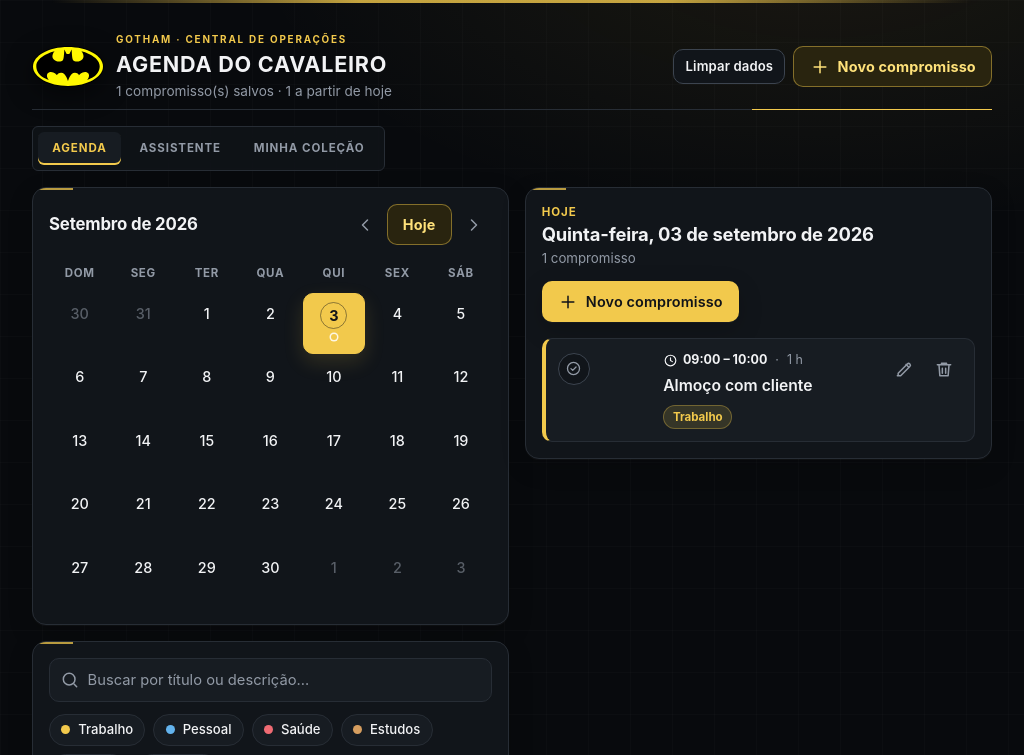
it: exclusão › pede confirmação e mantém o compromisso ao cancelar
Click the button named "Excluir compromisso Almoço com cliente".
click(944, 369)  # box [926,351,962,387]
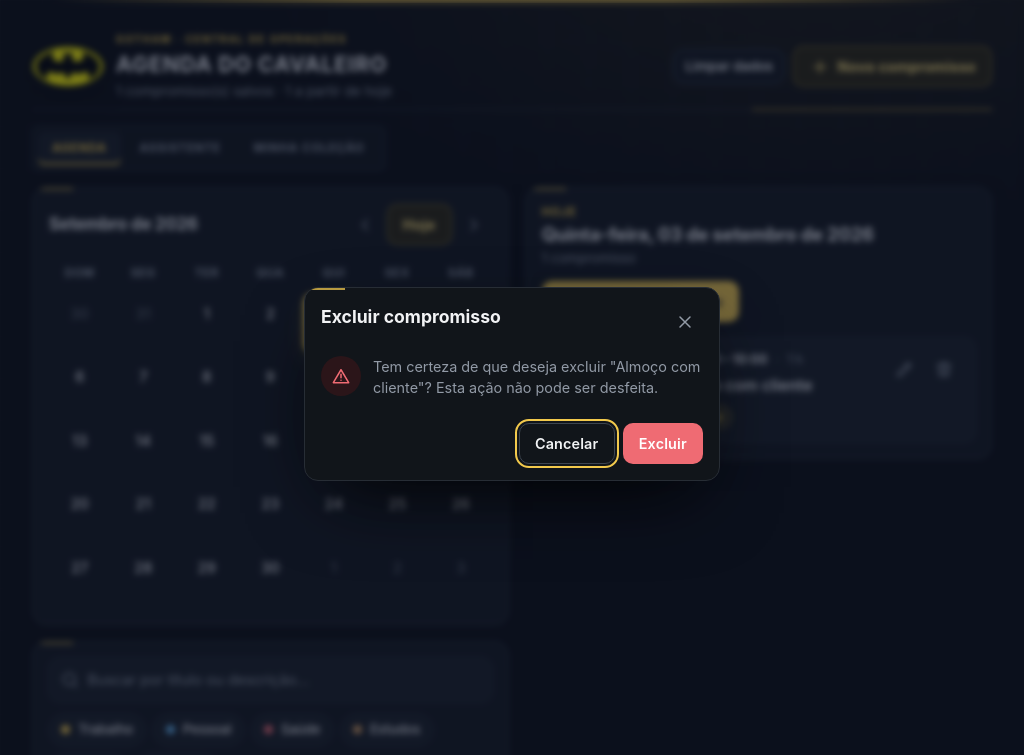
Check: the text "não pode ser desfeita" is shown, box [373,358,700,396]
Click the button "Cancelar".
click(567, 444)  # box [519,423,614,464]
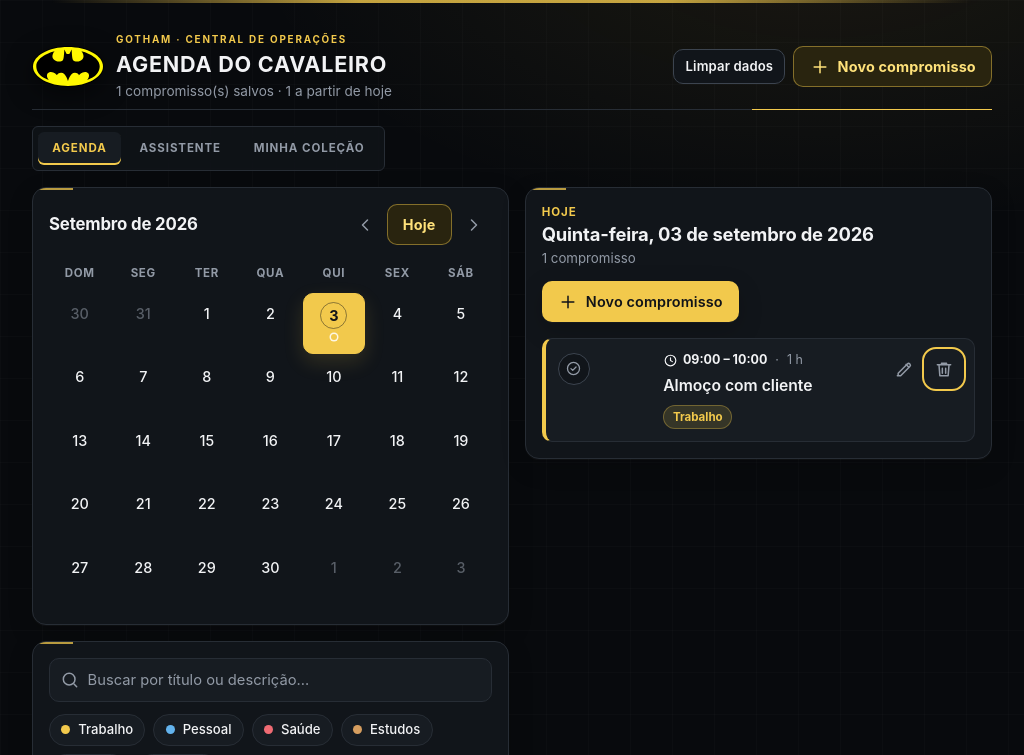
Check: the heading "Almoço com cliente" is shown, box [663,374,812,397]
Check: the dialog is gone
